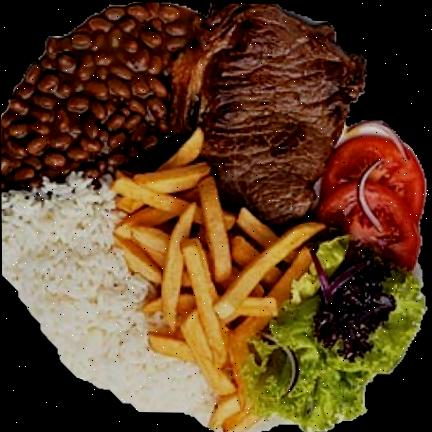beans: (1, 2, 203, 192)
meat: (175, 3, 364, 231)
potato: (113, 129, 323, 432)
rice: (1, 174, 215, 425)
salad: (244, 237, 425, 432)
tomato: (318, 136, 425, 270)
